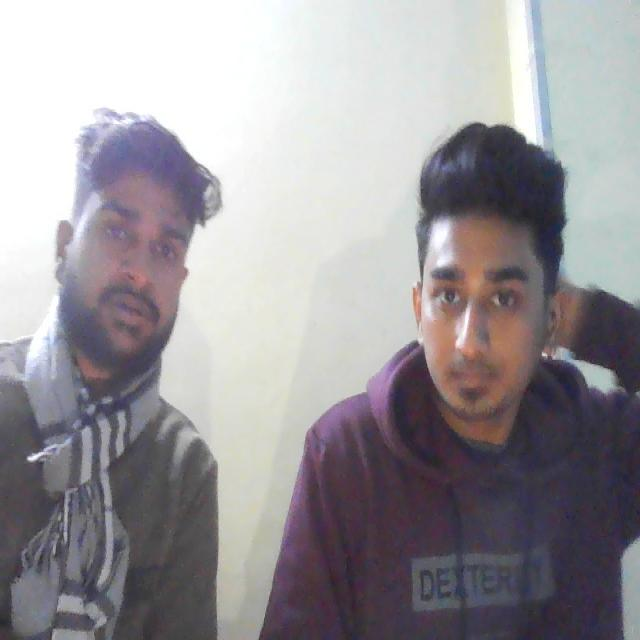real: (401, 136, 566, 448), (53, 108, 197, 380)
